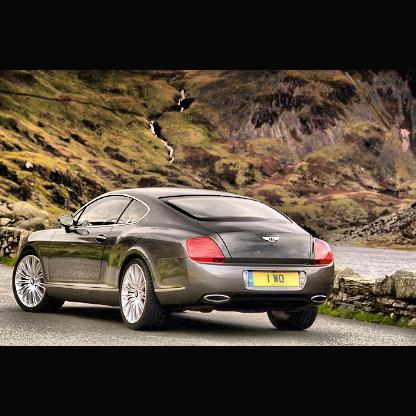Bentley Continental GT Coupe 2007: (12, 185, 339, 335)
